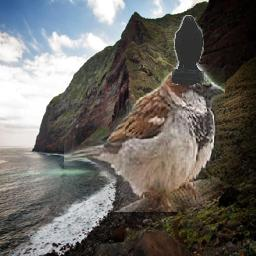Crow: (172, 15, 204, 85)
Sparrow: (65, 64, 226, 212)
